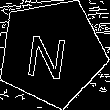N_N: (28, 25, 75, 80)
